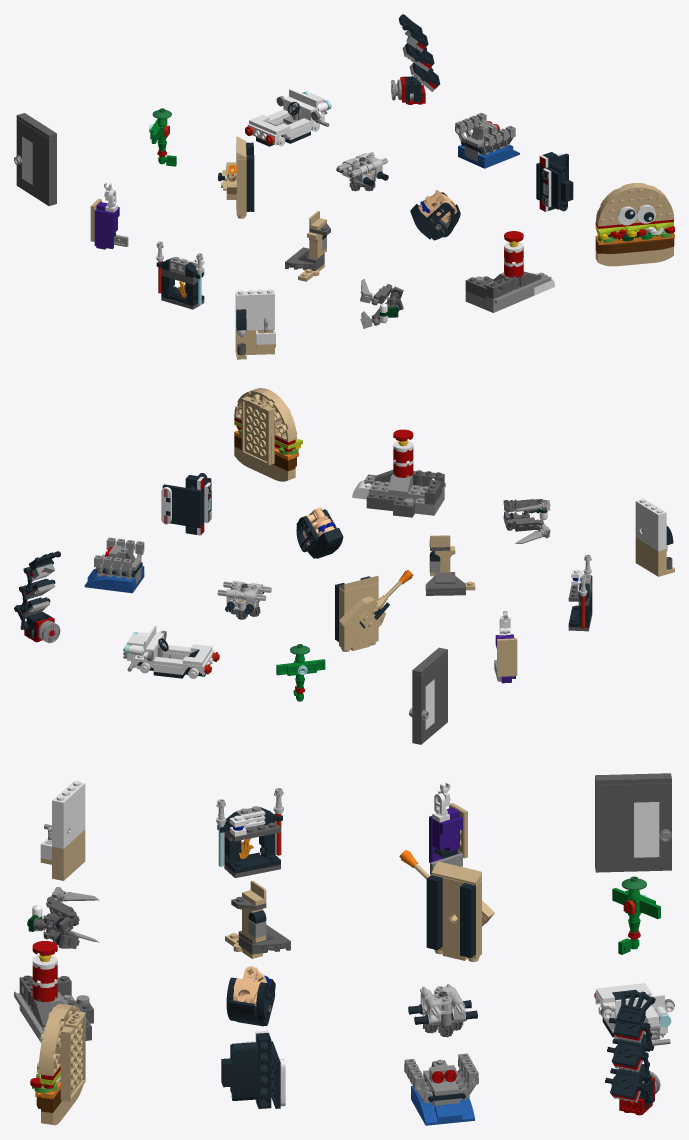
The picture shows the model from 3 angles, top to bottom: view 1: azimuth 30°, elevation 25°; view 2: azimuth 150°, elevation 25°; view 3: azimuth 270°, elevation 25°; orthographic projection. The views are drawn at different scales.
Parts seen in each view (by area): view 1: 2577 (×2), 87079, 3010, 88646, 32249; view 2: 3032, 6179, 2577, 87079, 3010; view 3: 6636 (×3), 3622 (×4), 3009 (×2), 32316 (×2), 4600 (×2), 3032, 2577, 3894, 92692, 3010, 60176, 32249 (+2 smaller).
Part boxes in pixels (x1,y1,x2,y2): 2577 (×2): (596, 183, 674, 226); 87079: (94, 209, 113, 249); 3010: (235, 289, 274, 305); 88646: (539, 165, 560, 209); 32249: (427, 202, 455, 237); 3032: (241, 397, 271, 465); 6179: (162, 484, 201, 528); 2577: (261, 390, 296, 442); 87079: (497, 638, 517, 676); 3010: (635, 498, 666, 525); 6636 (×3): (426, 773, 671, 957); 3622 (×4): (595, 799, 633, 858); 3009 (×2): (595, 785, 671, 872); 32316 (×2): (231, 1042, 257, 1100); 4600 (×2): (605, 1039, 648, 1098); 3032: (65, 1012, 85, 1101); 2577: (37, 1008, 68, 1076); 3894: (256, 1033, 271, 1108); 92692: (616, 990, 655, 1024); 3010: (52, 780, 85, 816); 60176: (233, 966, 260, 1004); 32249: (256, 982, 275, 1025).
Bounding box in the file's own units: 1023 × 194 × 1042.
